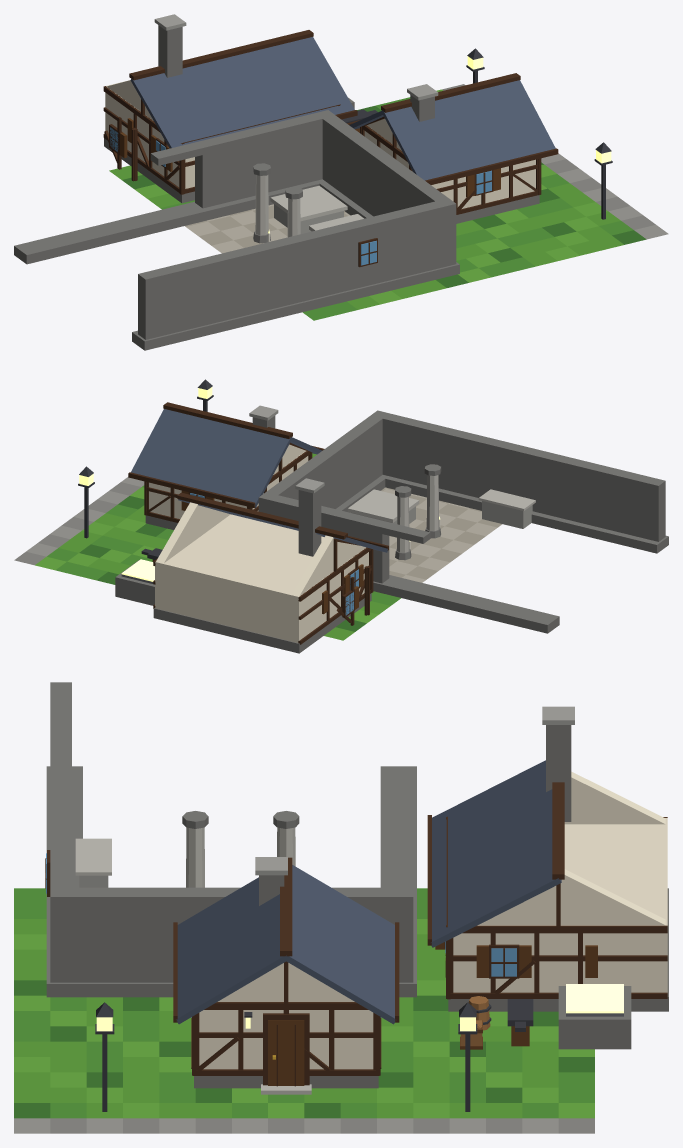
File: chunk_5_6.glb
3 renders of one model, top to bottom at view 1: azimuth 30°, elevation 25°; view 2: azimuth 150°, elevation 25°; view 3: azimuth 270°, elevation 25°, orthographic. The views are drawn at different scales.
Visible parts, largest first — view 1: chunk_5_6; view 2: chunk_5_6; view 3: chunk_5_6.
Boxes of the visible parts, left/top/right/bottom form: chunk_5_6: left=14, top=14, right=668, bottom=350; chunk_5_6: left=14, top=379, right=668, bottom=653; chunk_5_6: left=14, top=682, right=668, bottom=1133.
Size of the model in its own units: 23.1 by 6.34 by 18.04.
